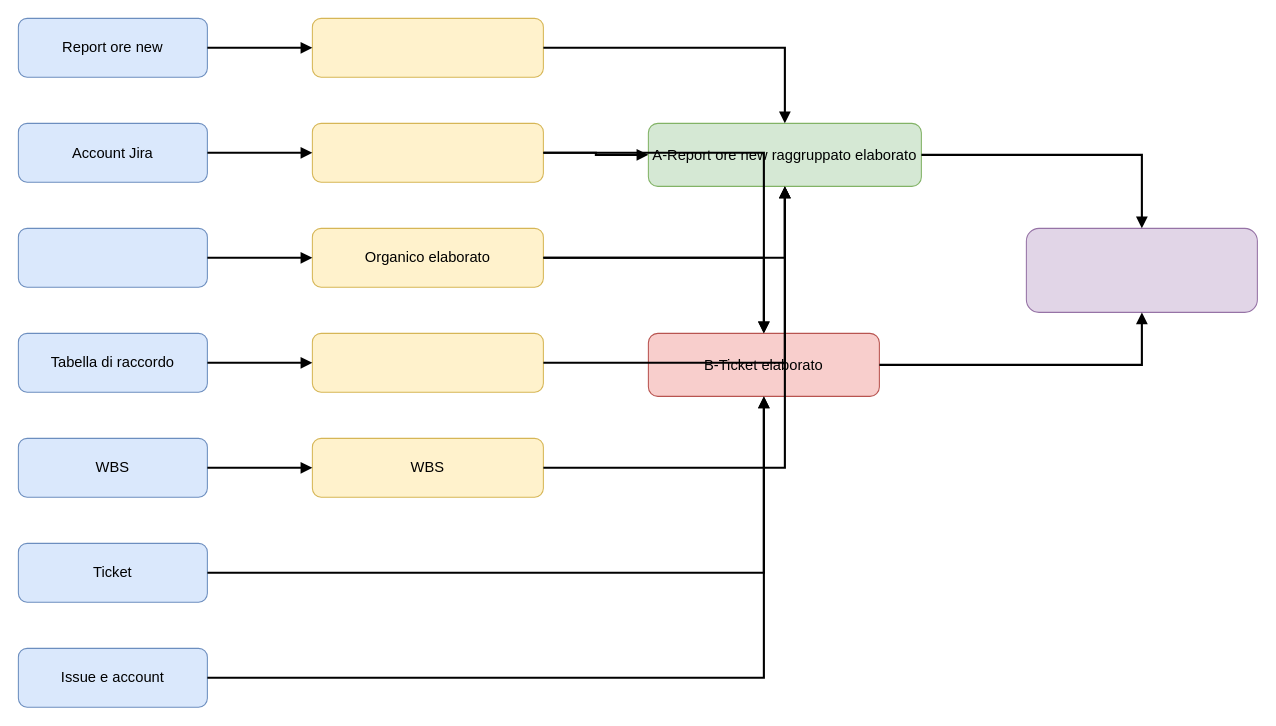
Image size: 1276x726. Some labels were removed from this diagram. Here are the shapes that lost their labels. From the top down, the centre of each, then its label:
At pixel 427 47: "Report ore new raggruppato".
At pixel 427 152: "Account Jira elaborato".
At pixel 112 257: "Organico".
At pixel 1141 269: "Output All A+B".
At pixel 427 362: "Validita raccordo".
